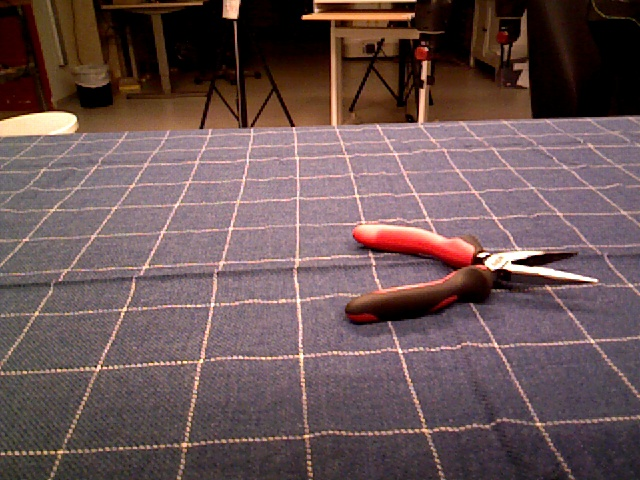plier1: (343, 222, 603, 328)
